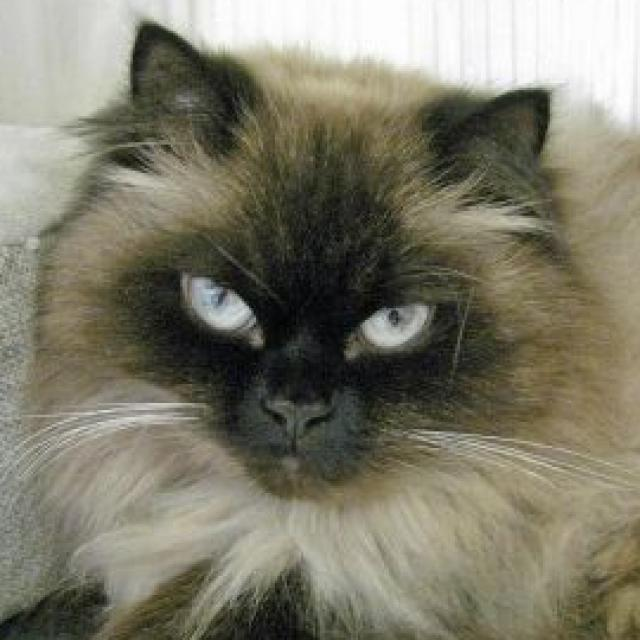Birman: (26, 9, 640, 640)
